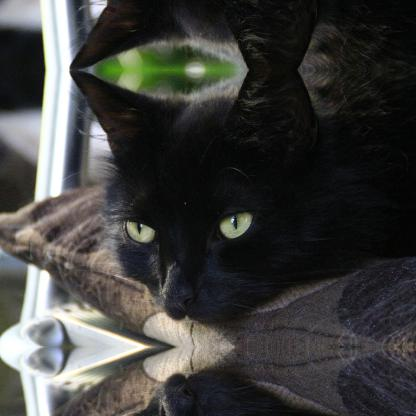Cat: (57, 69, 415, 323), (57, 0, 416, 70)
